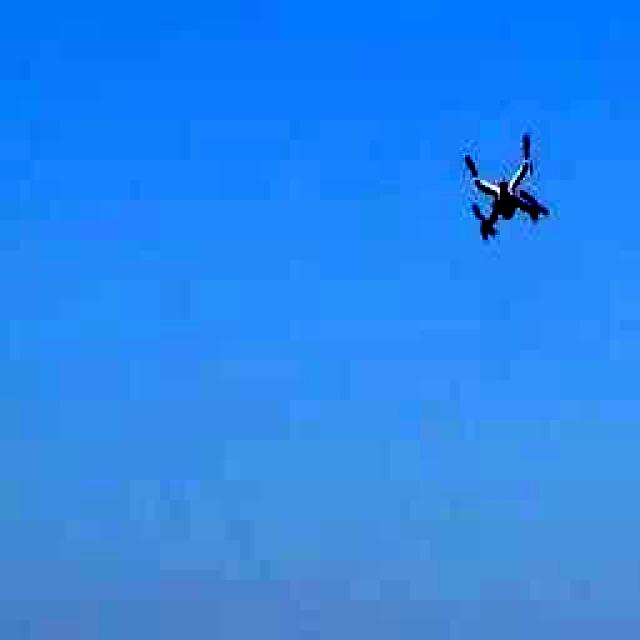bird: (441, 129, 561, 246)
